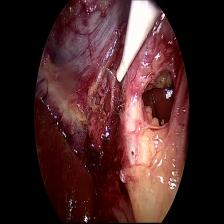Hook: (109, 0, 161, 84)
